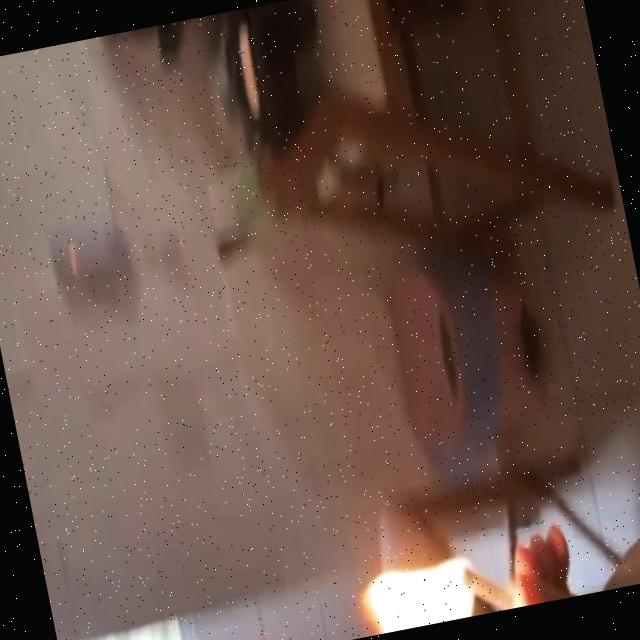fire: (344, 544, 489, 639)
